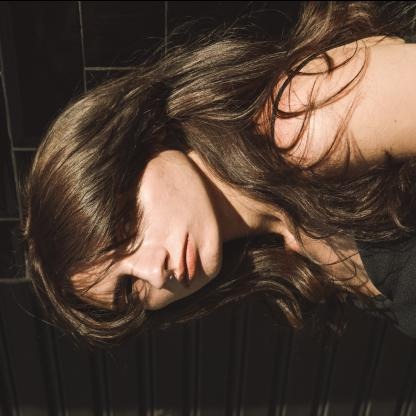Eye: (119, 194, 137, 242), (118, 278, 139, 312)
Mouth: (176, 230, 197, 289)
Nose: (131, 249, 170, 292)
